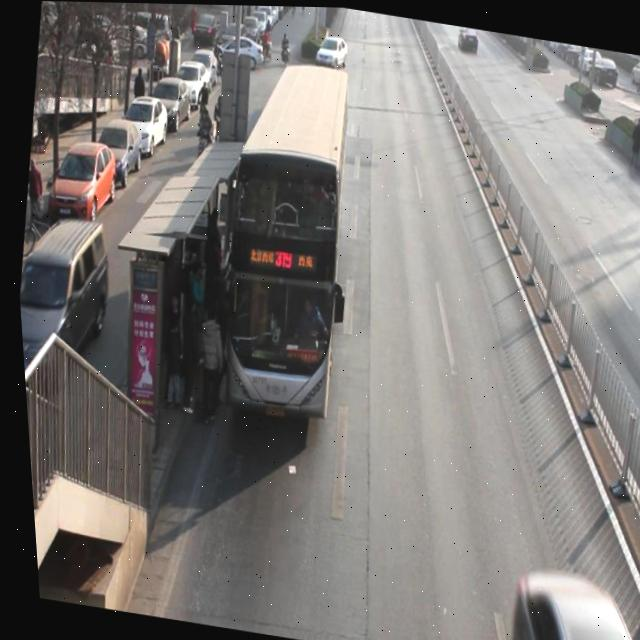car: (492, 571, 640, 640), (319, 33, 352, 71)
van: (196, 56, 369, 422)
